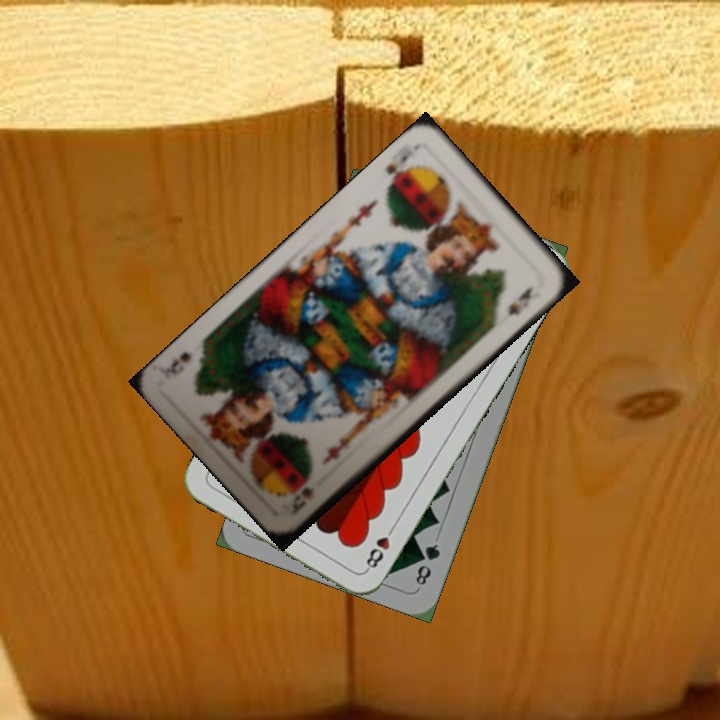G8: (411, 539, 443, 588)
H8: (361, 520, 398, 574)
SK: (381, 151, 417, 192), (287, 483, 316, 519)
